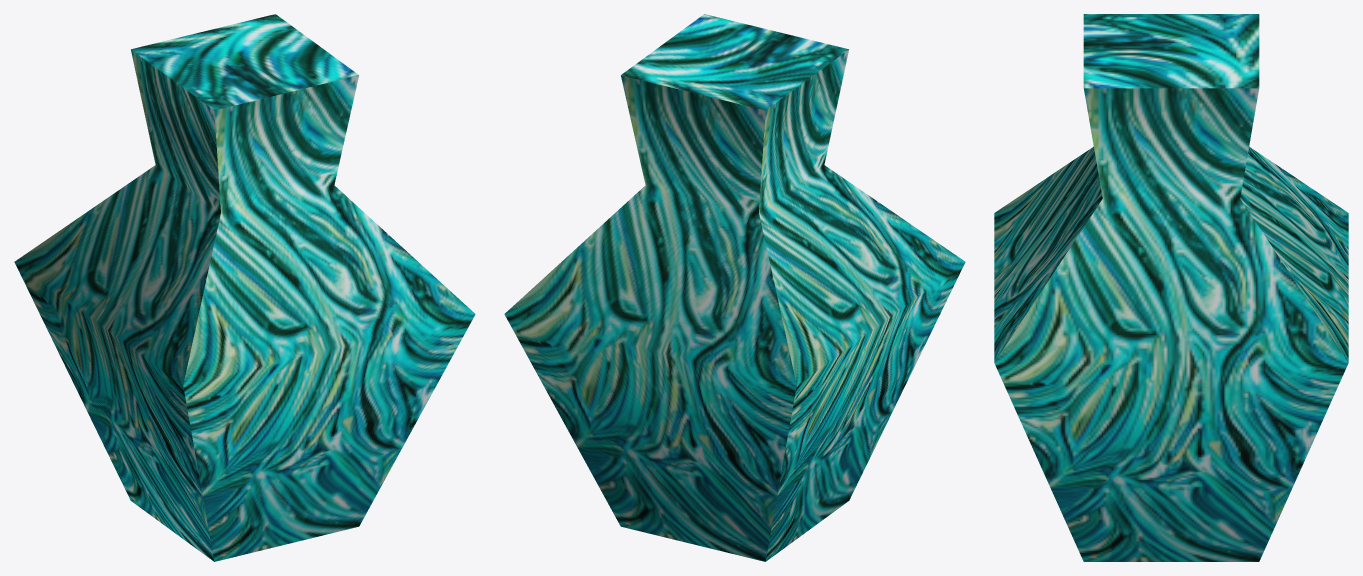
The model's file is vase.fbx.
The picture shows the model from 3 angles, left to right: view 1: azimuth 30°, elevation 25°; view 2: azimuth 150°, elevation 25°; view 3: azimuth 270°, elevation 25°; orthographic projection. The views are drawn at different scales.
Parts seen in each view (by area): view 1: vase; view 2: vase; view 3: vase.
Boxes of the visible parts, x1=… form: vase: x1=14, y1=14, x2=475, y2=561; vase: x1=504, y1=14, x2=965, y2=561; vase: x1=994, y1=14, x2=1348, y2=561.
Bounding box in the file's own units: 40.71 × 60.04 × 40.71.
Materials: 1 (1 with a texture image).
